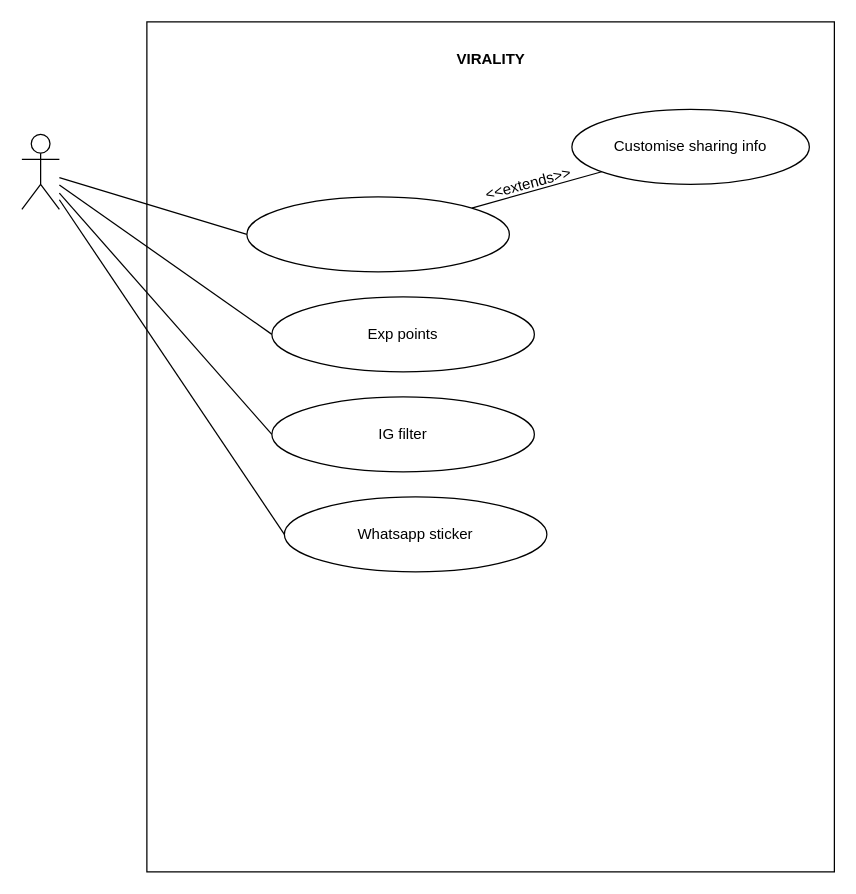
The diagram is 856 pixels wide and 894 high, and some of its shapes have lost their labels. The shapes that lost their labels are listed below. From the top down, each one's centre as x and y in pixels, then its label:
At point 40,171: "User".
At point 377,234: "Sharing data dari aplikasi".
